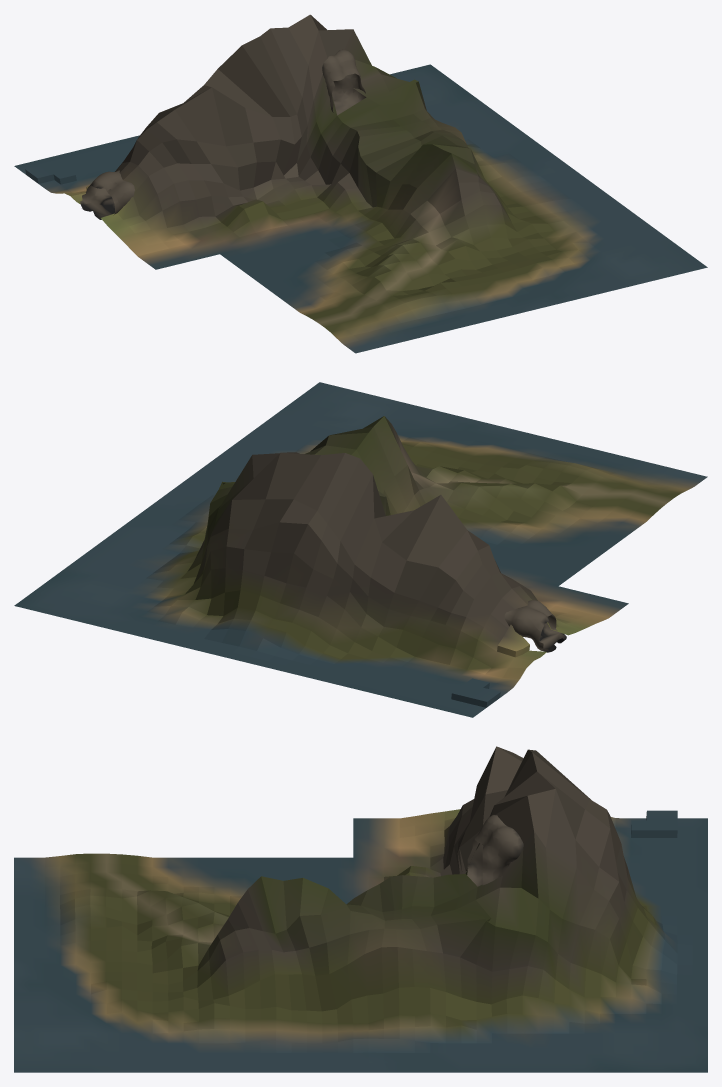
Rendered from MAPA ESCALA sec 7 y 8.glb.
The picture shows the model from 3 angles, top to bottom: view 1: azimuth 30°, elevation 25°; view 2: azimuth 150°, elevation 25°; view 3: azimuth 270°, elevation 25°; orthographic projection. The views are drawn at different scales.
Visible parts, largest first — view 1: MAPA 7 Y 8, Mball.074, MAPA; view 2: MAPA 7 Y 8, Mball.074, MAPA; view 3: MAPA 7 Y 8, Mball.074.
Part boxes in pixels (x1,y1,x2,y2): MAPA 7 Y 8: (14,14,707,353); Mball.074: (80,49,366,219); MAPA: (25,126,376,207); MAPA 7 Y 8: (14,382,707,717); Mball.074: (504,600,566,652); MAPA: (380,496,529,707); MAPA 7 Y 8: (14,746,707,1072); Mball.074: (467,815,523,886).
Size of the model in its own units: 48.51 by 16.58 by 55.56.
